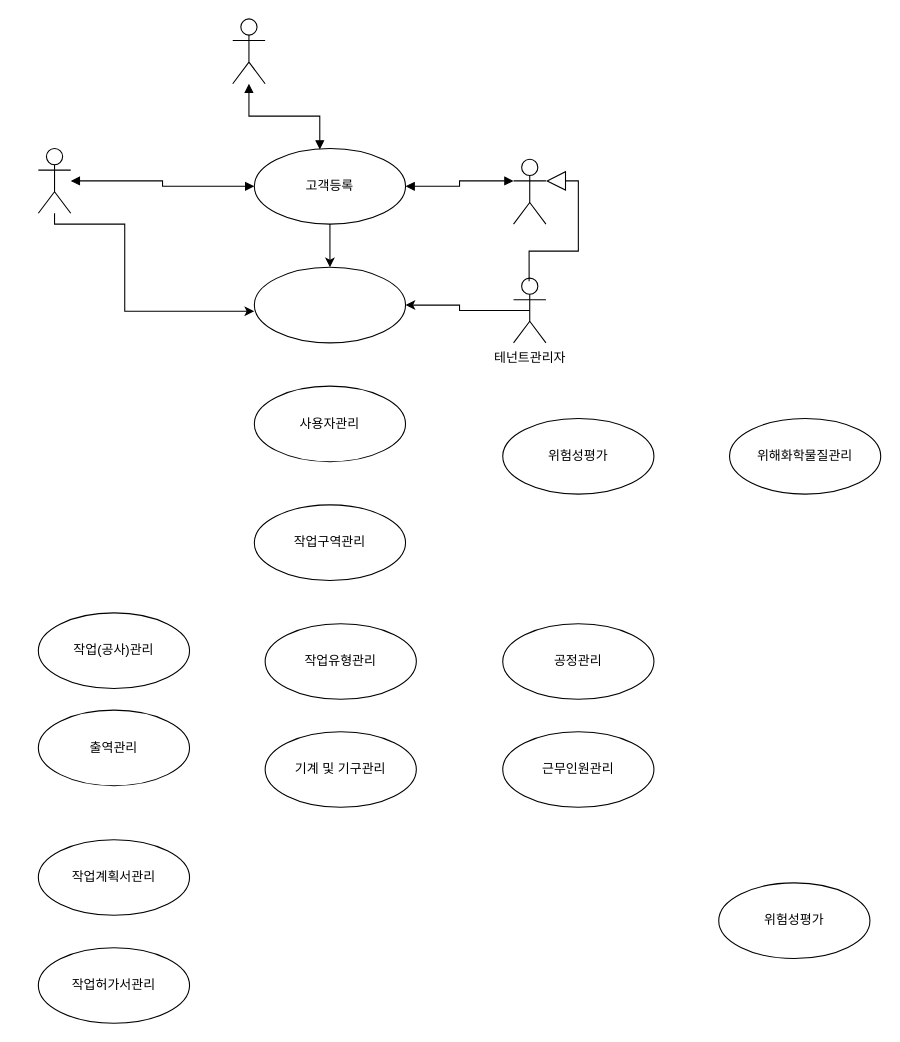
The diagram is 900 pixels wide and 1042 high, and some of its shapes have lost their labels. The shapes that lost their labels are listed below. From the top down, each one's centre as x and y in pixels, then its label:
At (248,51): "공통서비스".
At (54,180): "시스템관리자".
At (529,191): "고객".
At (329,304): "기본정보 세팅".
